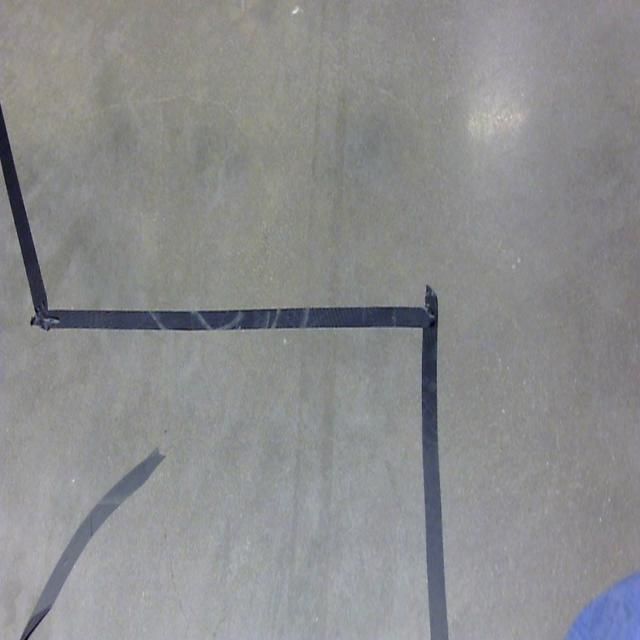tape: (0, 101, 451, 640), (20, 452, 164, 640)
